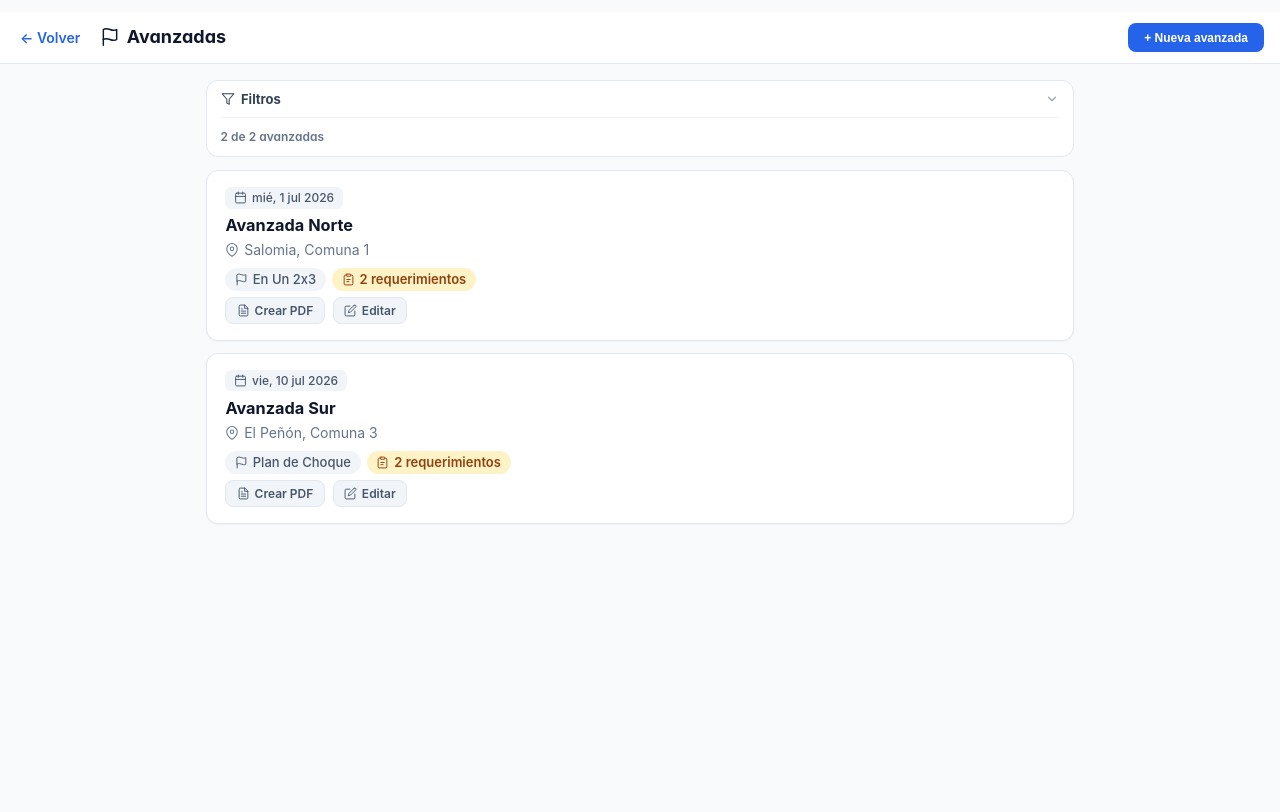
Test: ListaAvanzadas › filter bar › 'Limpiar filtros' restores the full unfiltered list
The image size is (1280, 812).
Click the button "Filtros" at {"x": 261, "y": 99}, box [221,91,1059,107]
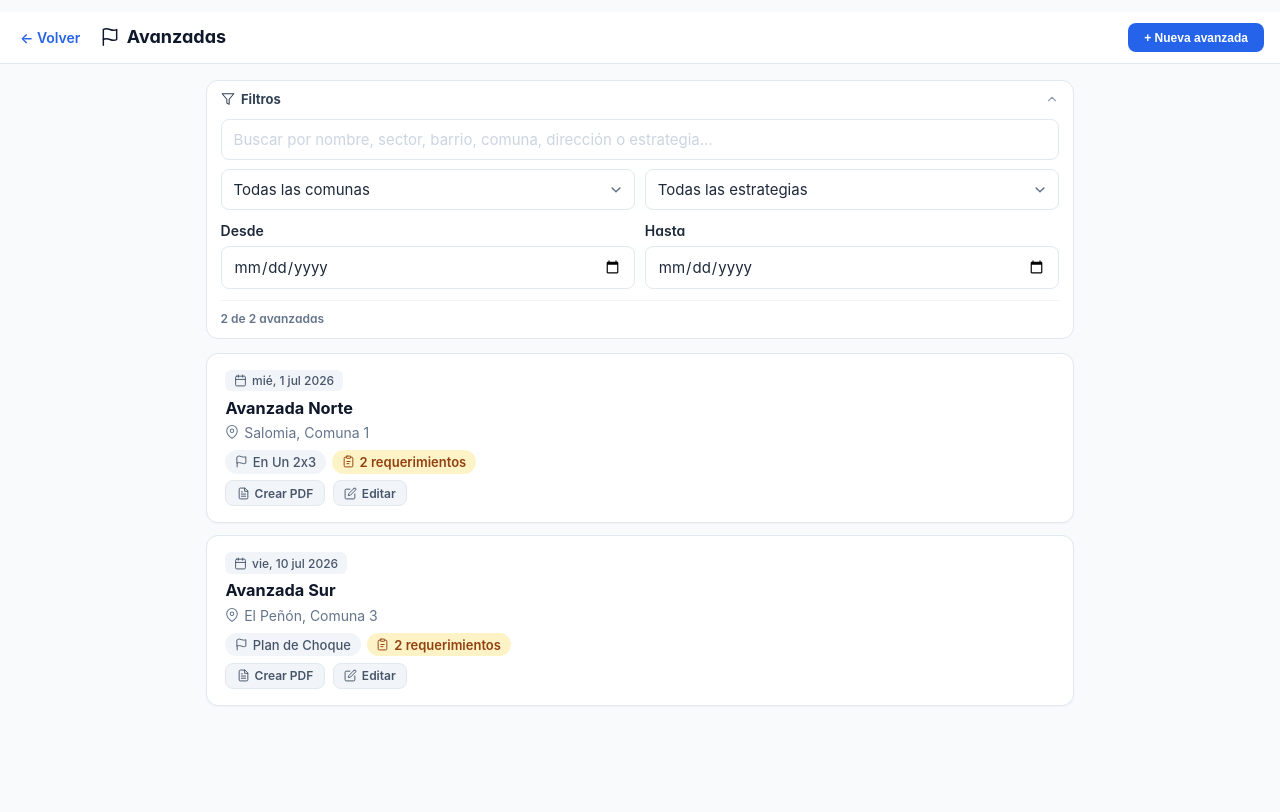
Replace the text in the field with placeholder "Buscar por nombre" with "Norte" at {"x": 640, "y": 139}, box [221,119,1059,160]
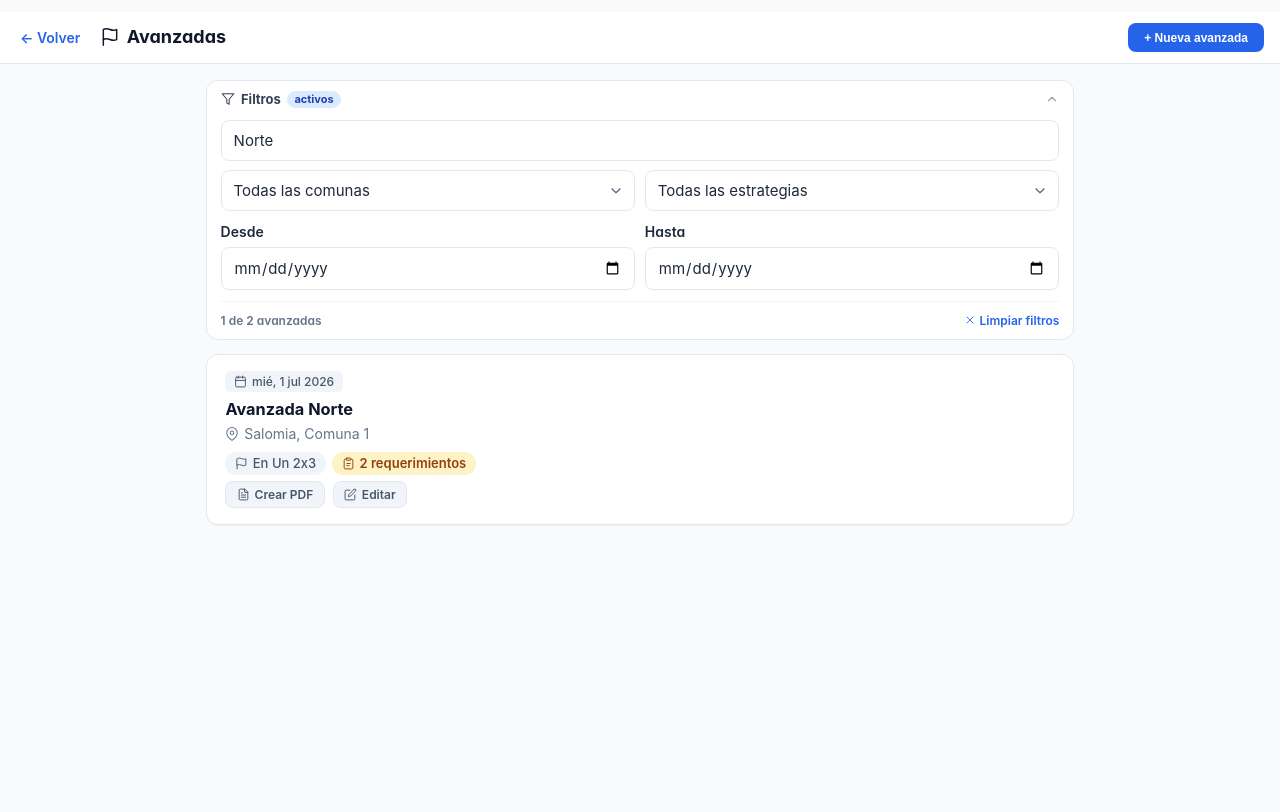
Expected: the text "1 de 2 avanzadas" is shown, [221,310,322,330]
Click the button "Limpiar filtros" at {"x": 1011, "y": 320}, box [964,313,1059,328]
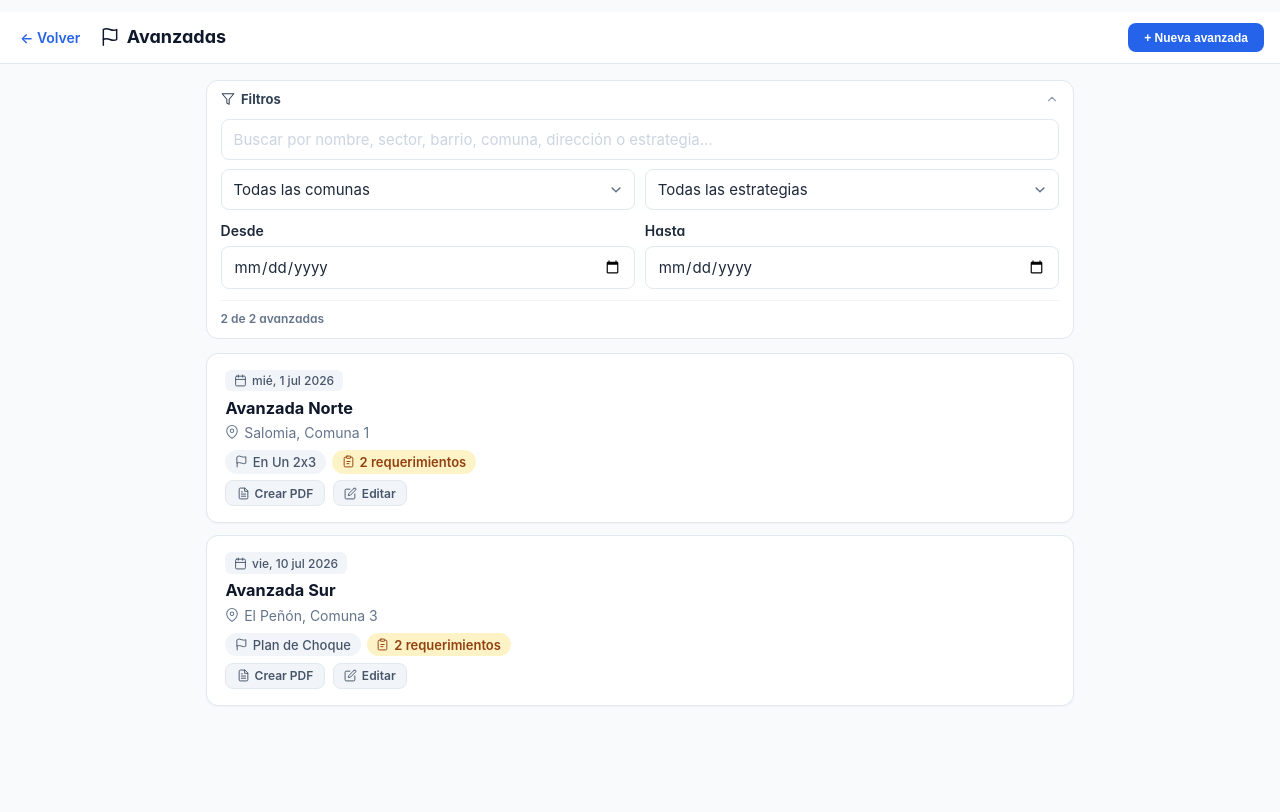
Expected: the heading "Avanzada Norte" is shown, [225,398,353,418]
Expected: the heading "Avanzada Sur" is shown, [225,580,336,600]
Expected: the text "2 de 2 avanzadas" is shown, [221,309,324,329]
